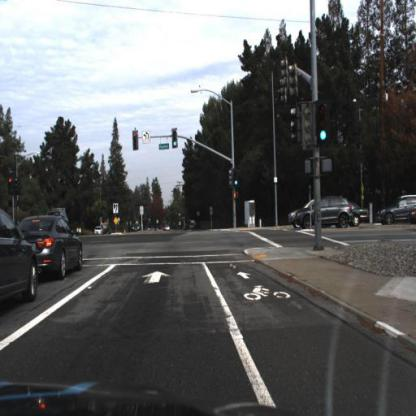car: (18, 215, 86, 275), (36, 212, 85, 291), (294, 196, 354, 235), (296, 197, 352, 227), (44, 198, 72, 226), (351, 200, 371, 229), (353, 203, 371, 230), (285, 208, 298, 232), (91, 221, 105, 239), (131, 219, 143, 240)
trafficLight-Green: (317, 99, 329, 148), (318, 125, 330, 146), (231, 167, 241, 188), (171, 129, 180, 149), (172, 133, 180, 153), (232, 171, 240, 190)
trafficLight-RedLeft: (131, 129, 141, 148), (133, 130, 139, 150)
